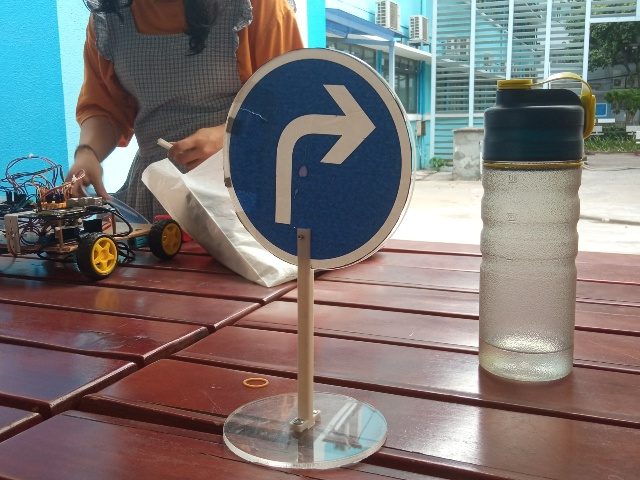Right_Sign: (224, 48, 413, 270)
